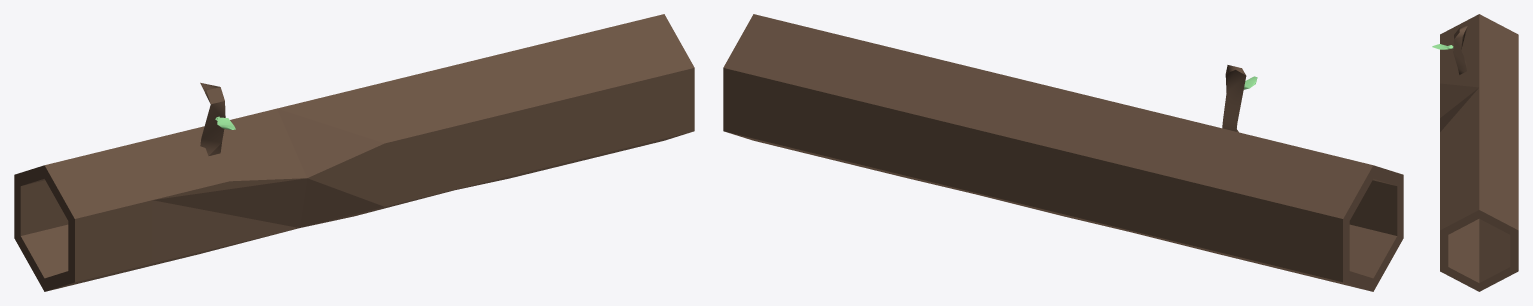
Rendered from log.fbx.
The picture shows the model from 3 angles, left to right: view 1: azimuth 30°, elevation 25°; view 2: azimuth 150°, elevation 25°; view 3: azimuth 270°, elevation 25°; orthographic projection. The views are drawn at different scales.
Parts seen in each view (by area): view 1: log; view 2: log; view 3: log.
Boxes of the visible parts, x1,y1,x2,y2 form: log: [14, 14, 694, 291]; log: [723, 14, 1403, 291]; log: [1432, 14, 1518, 291].
Size of the model in its own units: 10.24 by 2.84 by 1.9.
